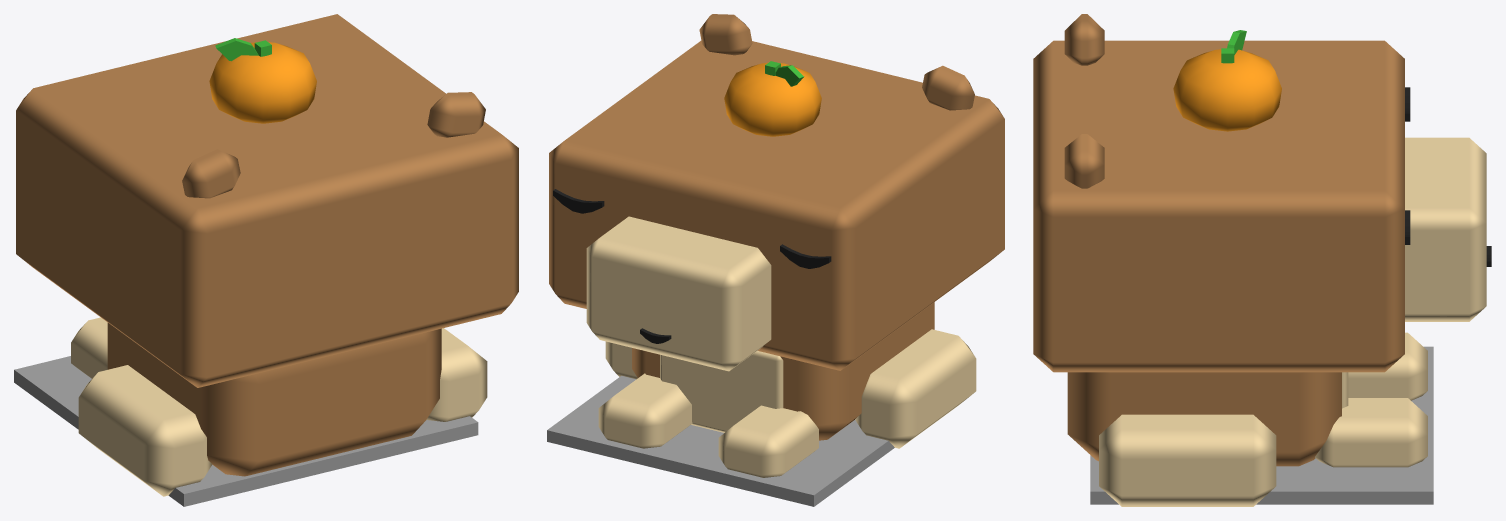
Rendered from capybara_3d_v2.glb.
3 renders of one model, left to right at view 1: azimuth 30°, elevation 25°; view 2: azimuth 150°, elevation 25°; view 3: azimuth 270°, elevation 25°, orthographic. The views are drawn at different scales.
Visible parts, largest first — view 1: Body, Frame, Root, Accent, AccentLeaf; view 2: Body, Frame, Root, Accent, Face, AccentLeaf; view 3: Body, Frame, Root, Accent, Face, AccentLeaf.
Part boxes in pixels (box(x1,y1,x2,y2)): Body: box(16, 14, 518, 476); Frame: box(71, 317, 487, 496); Root: box(14, 356, 478, 506); Accent: box(209, 42, 316, 123); AccentLeaf: box(215, 38, 271, 61); Body: box(549, 14, 1004, 440); Frame: box(586, 216, 976, 477); Root: box(547, 375, 894, 506); Accent: box(724, 62, 821, 136); Face: box(553, 189, 831, 343); AccentLeaf: box(765, 61, 804, 86); Body: box(1033, 14, 1404, 466); Frame: box(1099, 137, 1486, 506); Root: box(1090, 346, 1433, 504); Accent: box(1173, 49, 1281, 131); Face: box(1405, 87, 1491, 266); AccentLeaf: box(1221, 30, 1246, 63).
Bounding box in the file's own units: 1.4 × 1.5 × 1.6.
